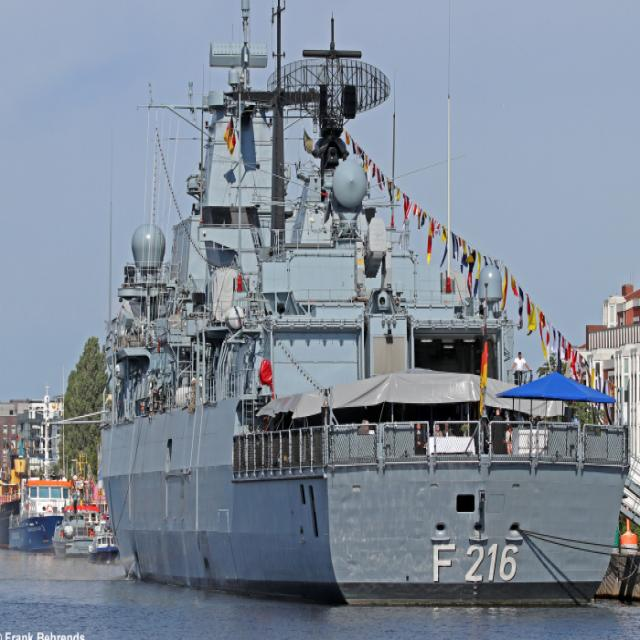Fragata: (98, 1, 632, 605)
